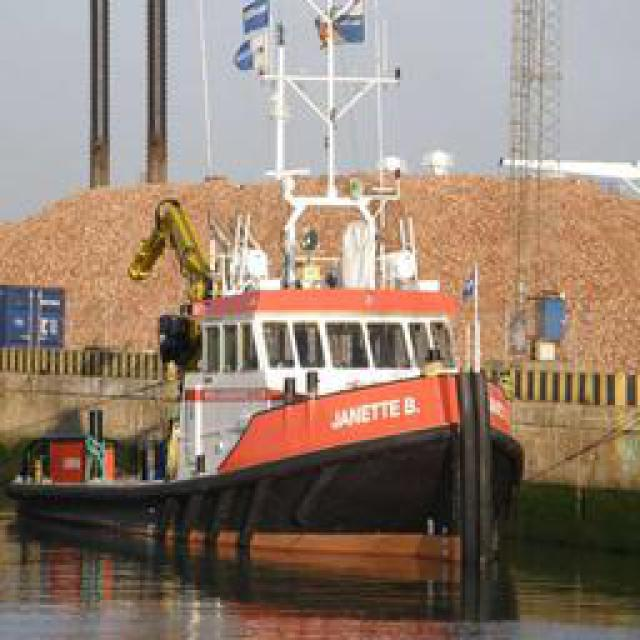Ship: (10, 235, 535, 570)
